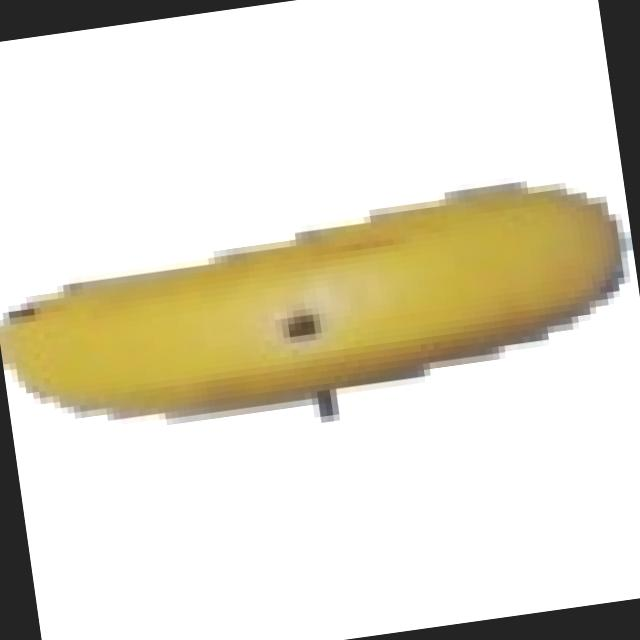banana_pacche: (0, 0, 640, 630)
